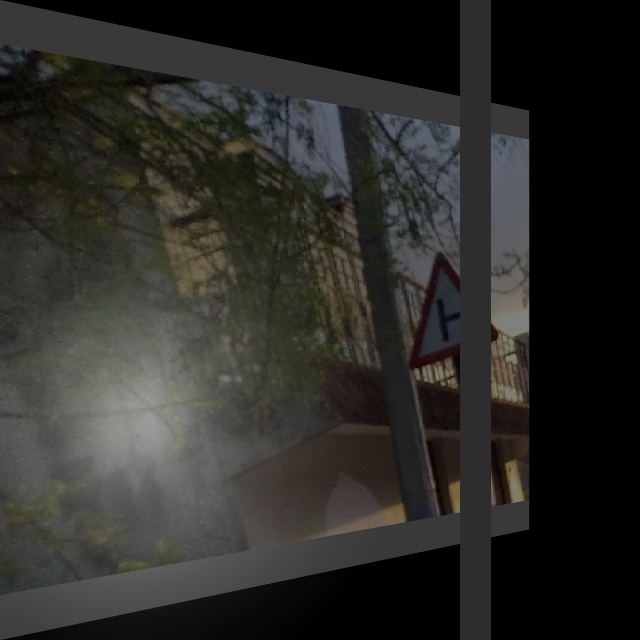Side_Road_Right: (405, 244, 503, 372)
